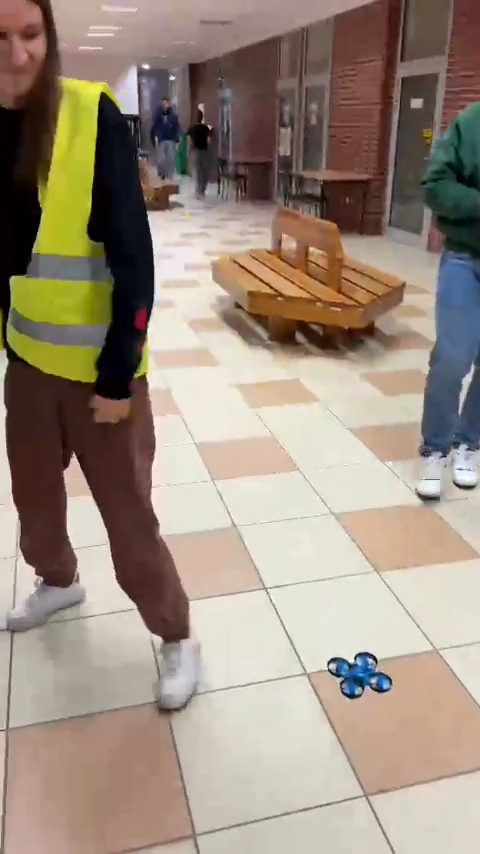drone: (330, 656, 390, 698)
no vest: (392, 88, 480, 515), (146, 99, 186, 181), (192, 110, 217, 193)
vest: (0, 2, 204, 688)
